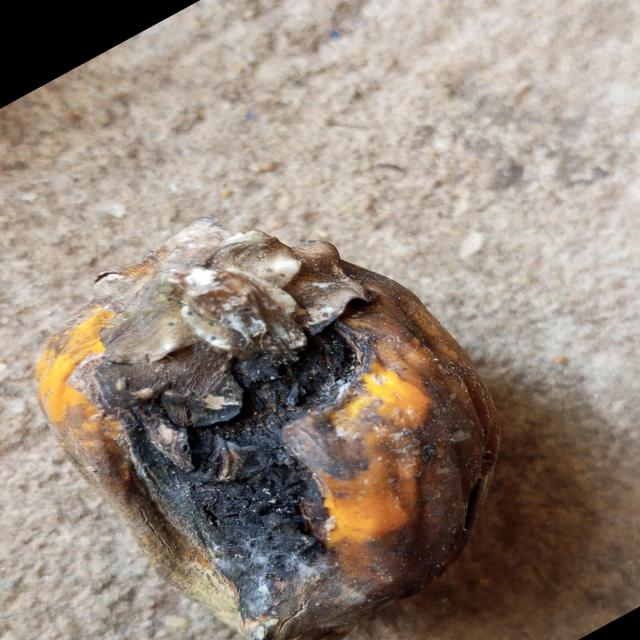damaged: (37, 219, 499, 640)
